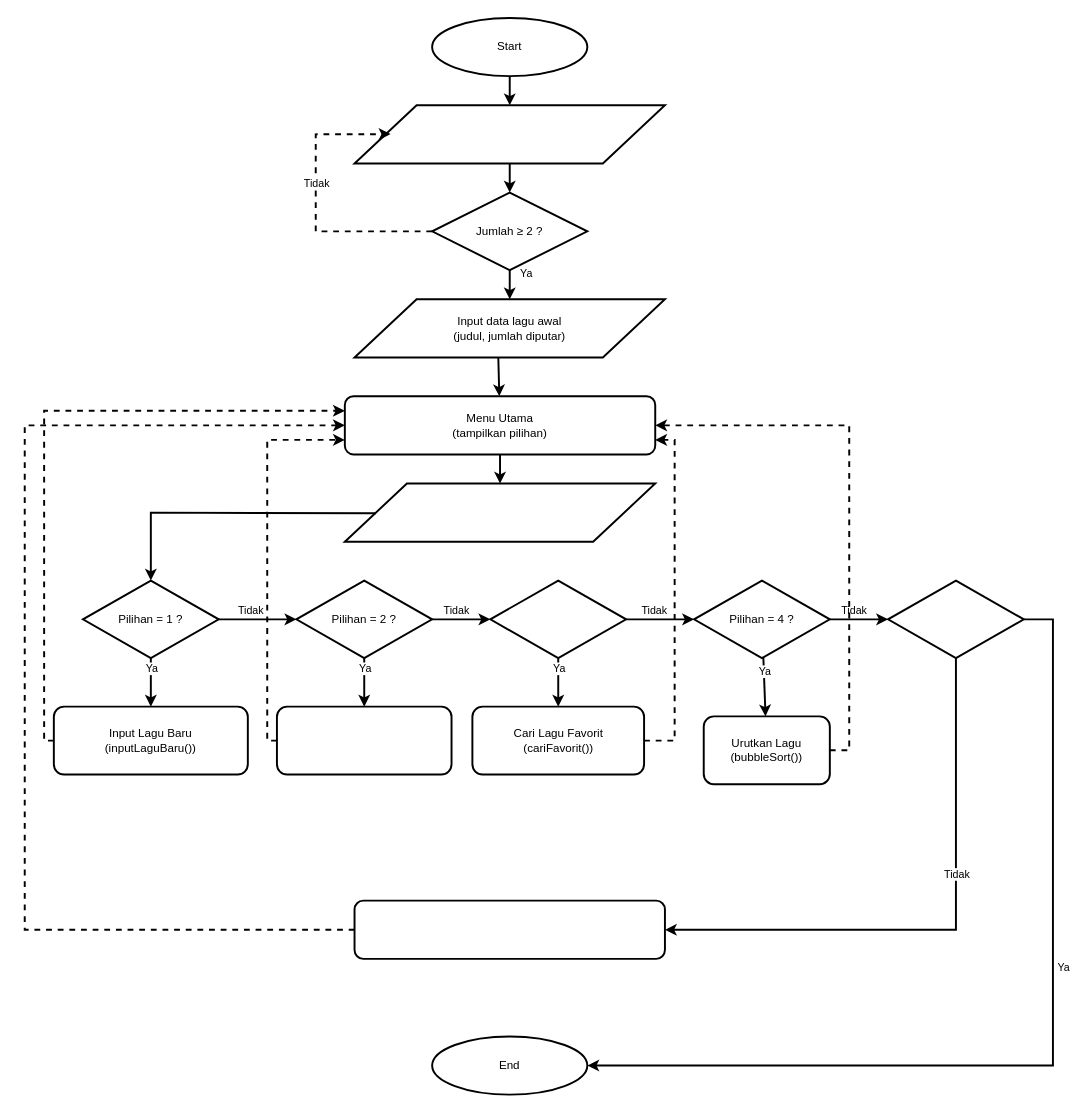
Image size: 1085x1112. Some labels were removed from this diagram. Here are the shapes that lost their labels. From the top down, the centre of each, then its label:
the point at 509,134: Input jumlah lagu awal (minimal 2)
the point at 499,512: Input pilihan pengguna
the point at 558,619: Pilihan = 3 ?
the point at 955,619: Pilihan = 5 ?
the point at 363,740: Tampilkan Semua Lagu (tampilkanSemuaLagu())
the point at 509,929: Pilihan tidak valid → Tampilkan pesan
